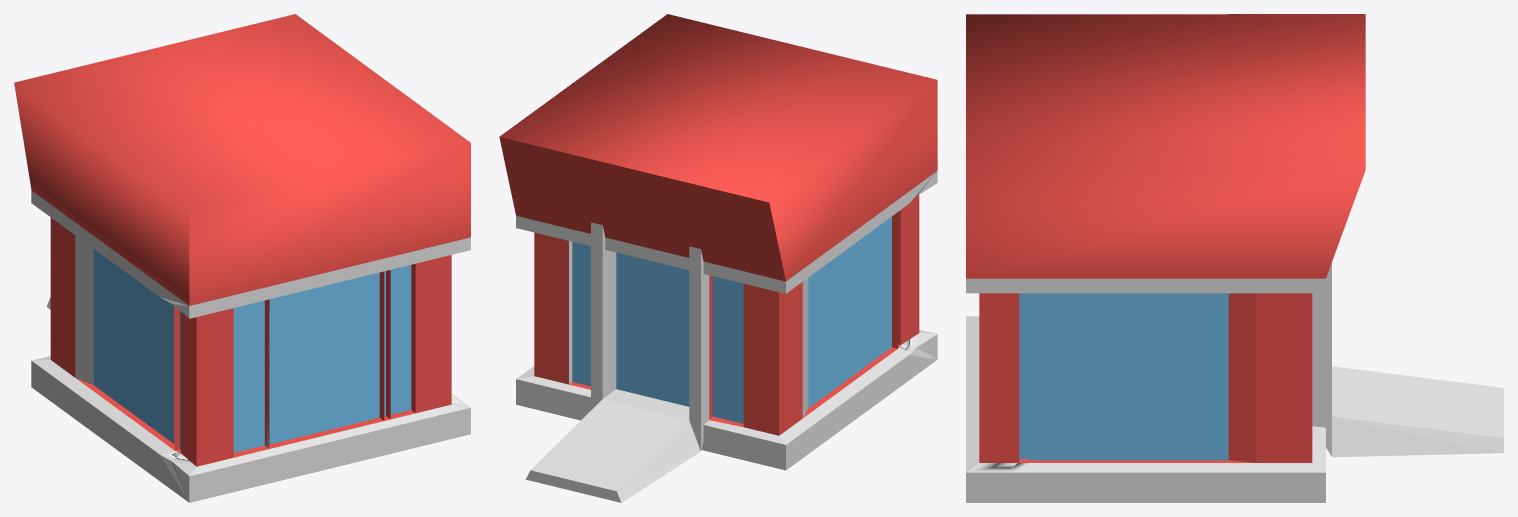
The model's file is Shop2x2x2Red.fbx.
The picture shows the model from 3 angles, left to right: view 1: azimuth 30°, elevation 25°; view 2: azimuth 150°, elevation 25°; view 3: azimuth 270°, elevation 25°; orthographic projection. The views are drawn at different scales.
Visible parts, largest first — view 1: Shop.002; view 2: Shop.002; view 3: Shop.002.
Part boxes in pixels (x1=…): Shop.002: x1=14, y1=14, x2=470, y2=502; Shop.002: x1=499, y1=14, x2=937, y2=502; Shop.002: x1=966, y1=14, x2=1503, y2=502.
Bounding box in the file's own units: 2 × 1.98 × 2.91.
1 material, 1 textured.
